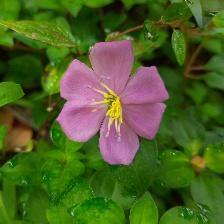malabar melastome: (56, 38, 173, 171)
